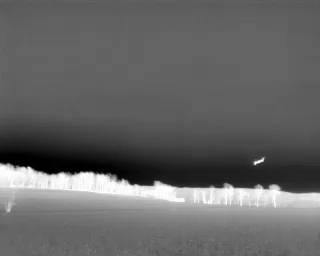DRONE: (250, 152, 270, 170)
